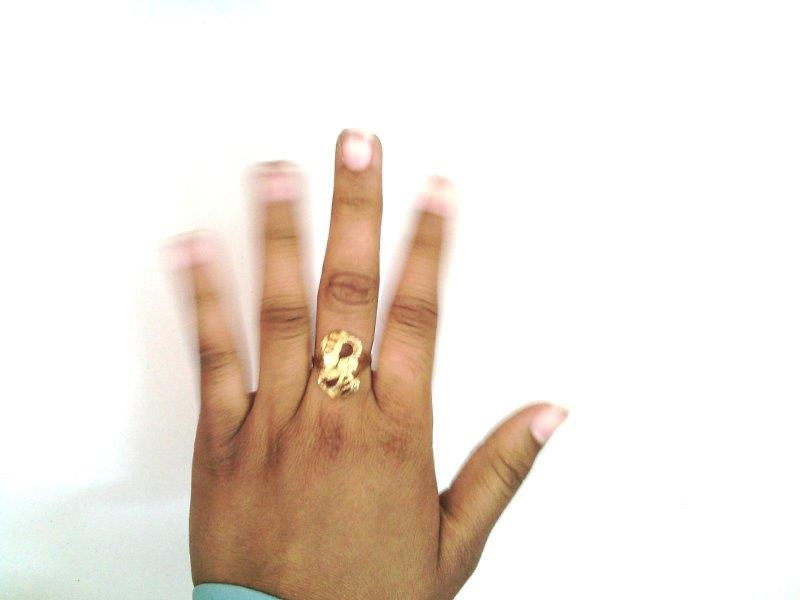hand: (177, 129, 569, 594)
